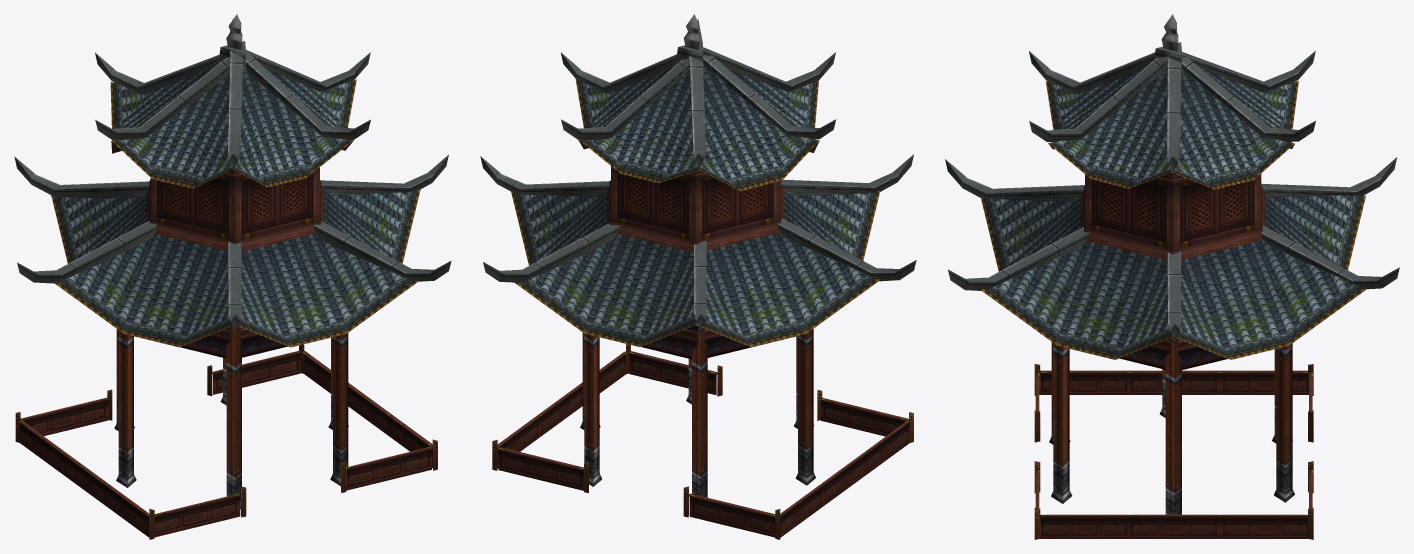
File: yzc_biboting_LOD1.FBX
3 views of the same model, side by side, from view 1: azimuth 30°, elevation 25°; view 2: azimuth 150°, elevation 25°; view 3: azimuth 270°, elevation 25° (orthographic). The views are drawn at different scales.
Parts seen in each view (by area): view 1: yzc_biboting_LOD1; view 2: yzc_biboting_LOD1; view 3: yzc_biboting_LOD1.
Boxes of the visible parts, x1,y1,x2,y2 form: yzc_biboting_LOD1: (14,14,451,539); yzc_biboting_LOD1: (480,14,916,539); yzc_biboting_LOD1: (945,14,1399,539).
Bounding box in the file's own units: 1958 × 1899 × 1706.
